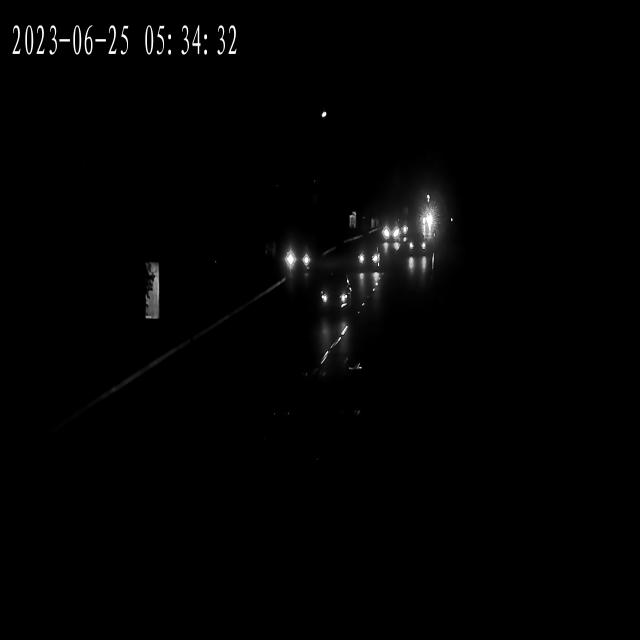Car: (282, 242, 314, 289), (319, 274, 351, 318), (354, 240, 381, 278), (407, 228, 431, 260), (382, 212, 402, 250)
